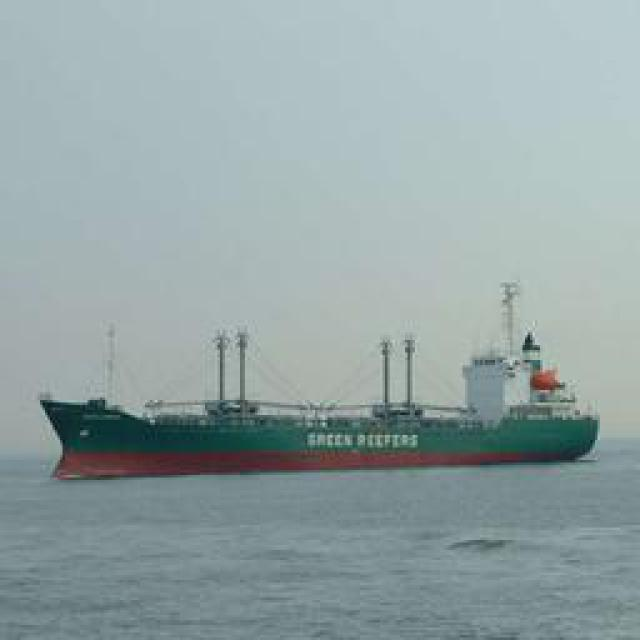Ship: (35, 285, 598, 475)
